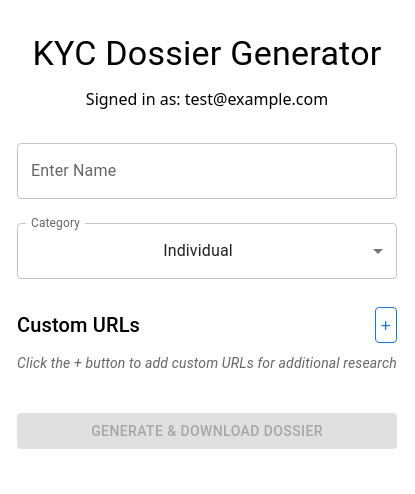
Test: App Integration › disables all inputs during loading
Note: Fill in name
In the field labelled "Enter Name": [207, 171] box [17,143,397,199], type "Test User"
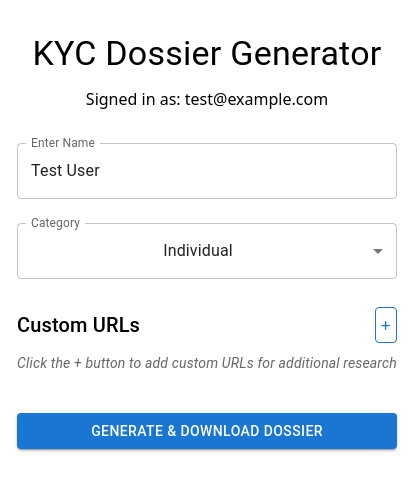
Note: Add a URL
Click the button "+": [386, 325] box [375,307,397,343]
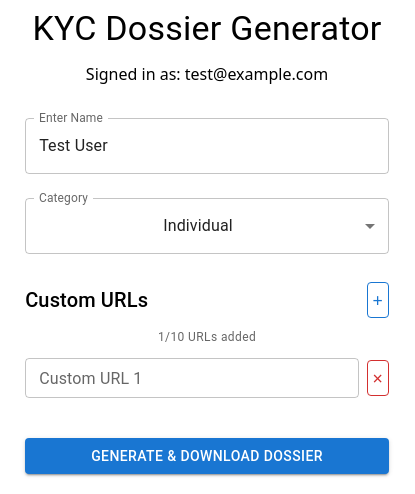
Click the button "Generate & Download Dossier": [207, 456] box [25,438,389,474]
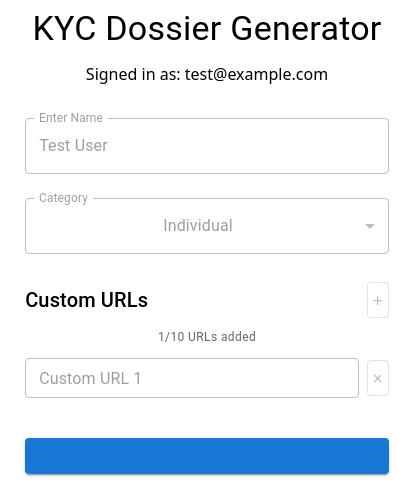
Expected: the button named "generate & download dossier" is enabled, [25,438,389,474]
Expected: the field labelled "Enter Name" is disabled, [25,118,389,174]
Expected: the button "+" is disabled, [366,282,389,318]
